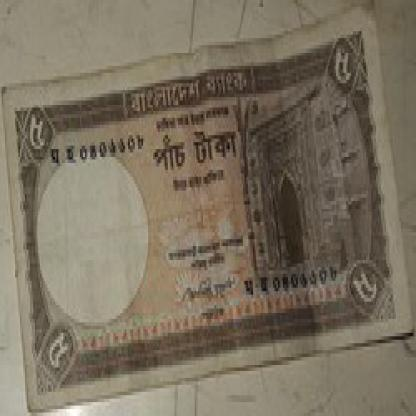Five Taka: (152, 125, 242, 173), (351, 253, 383, 316), (23, 83, 47, 166), (42, 319, 73, 378), (330, 35, 356, 90)
